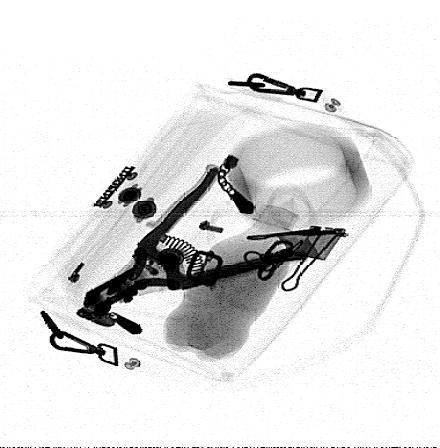Pliers: (81, 166, 295, 318)
